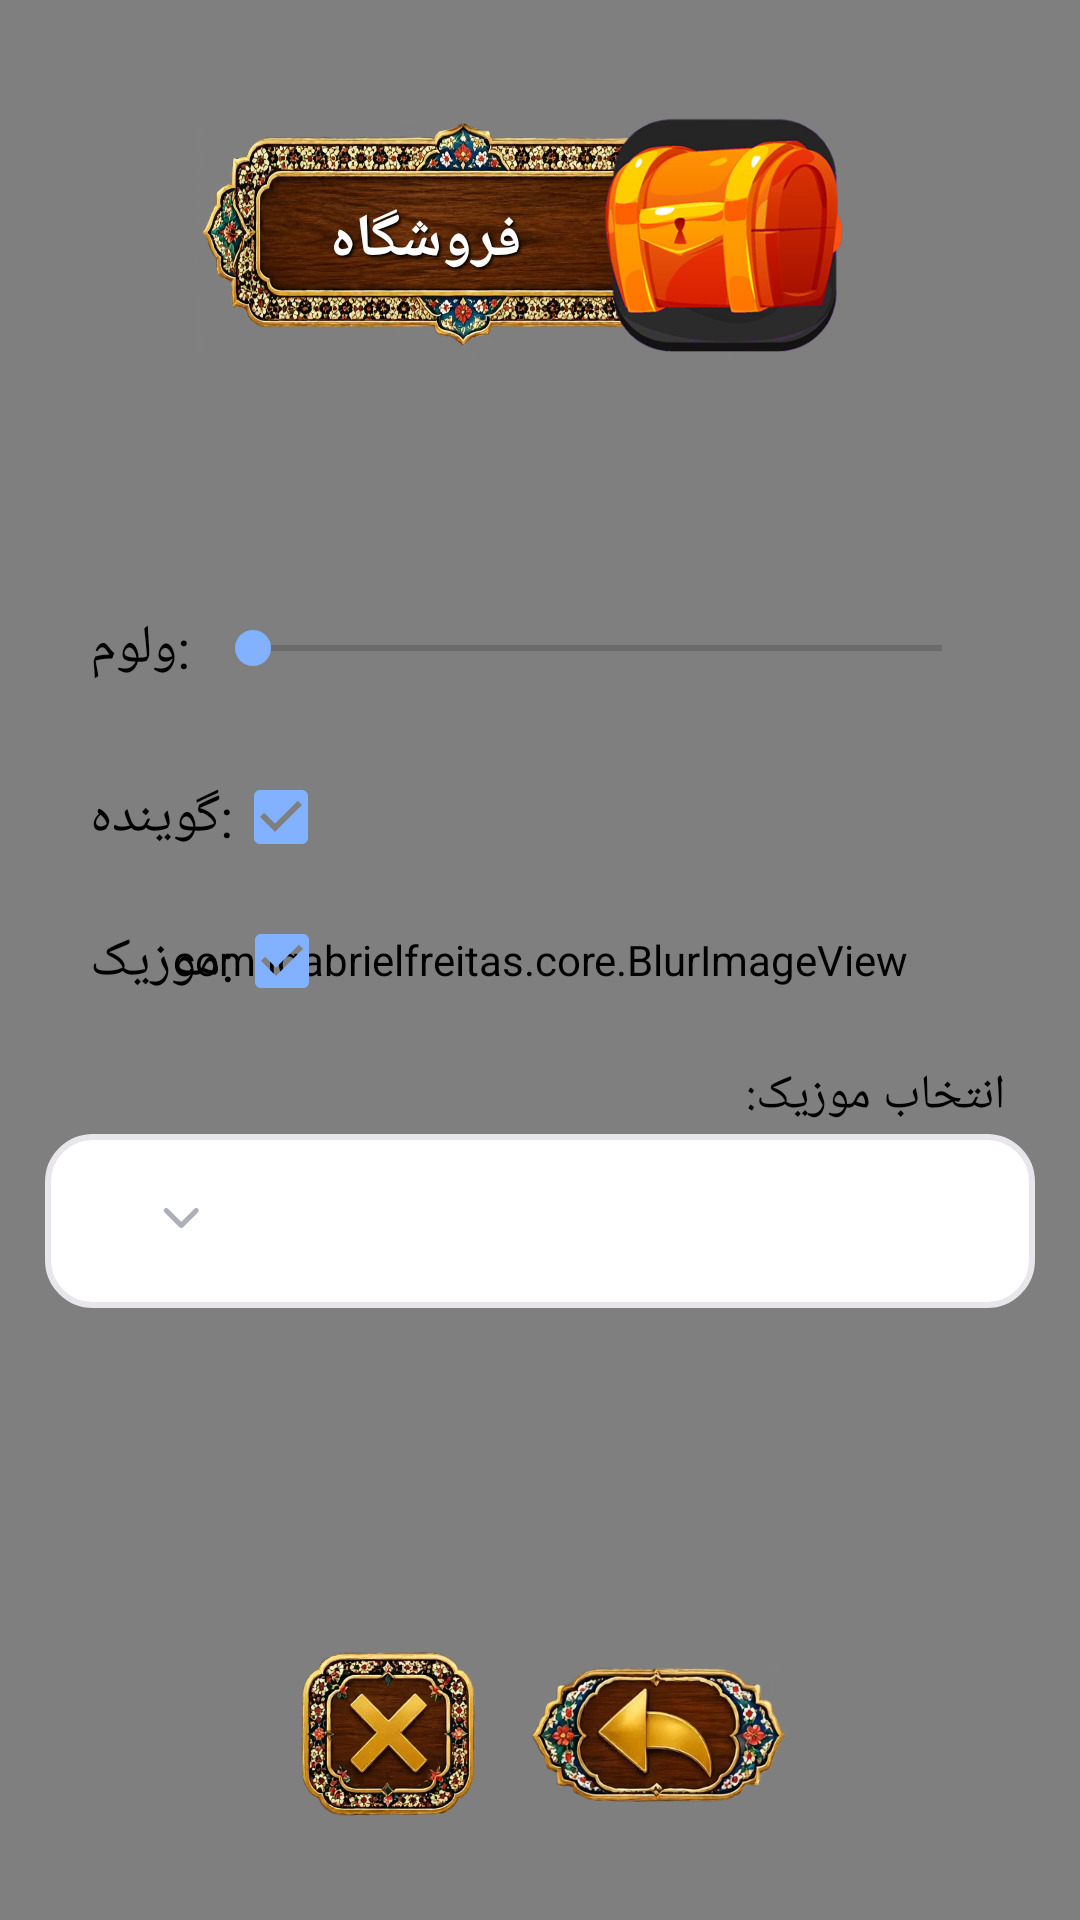

Where to tap for icons on this 1080 x 1920 app screen, as point (x, y):
back: point (658, 1735)
close: point (388, 1734)
sandogh: point (713, 235)
